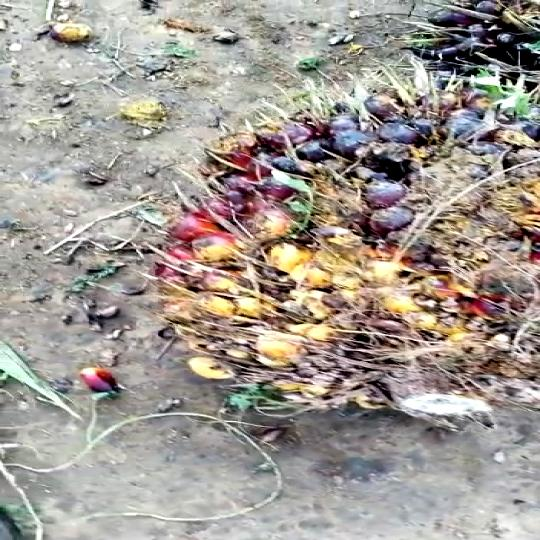kurang masak: (148, 78, 540, 440)
